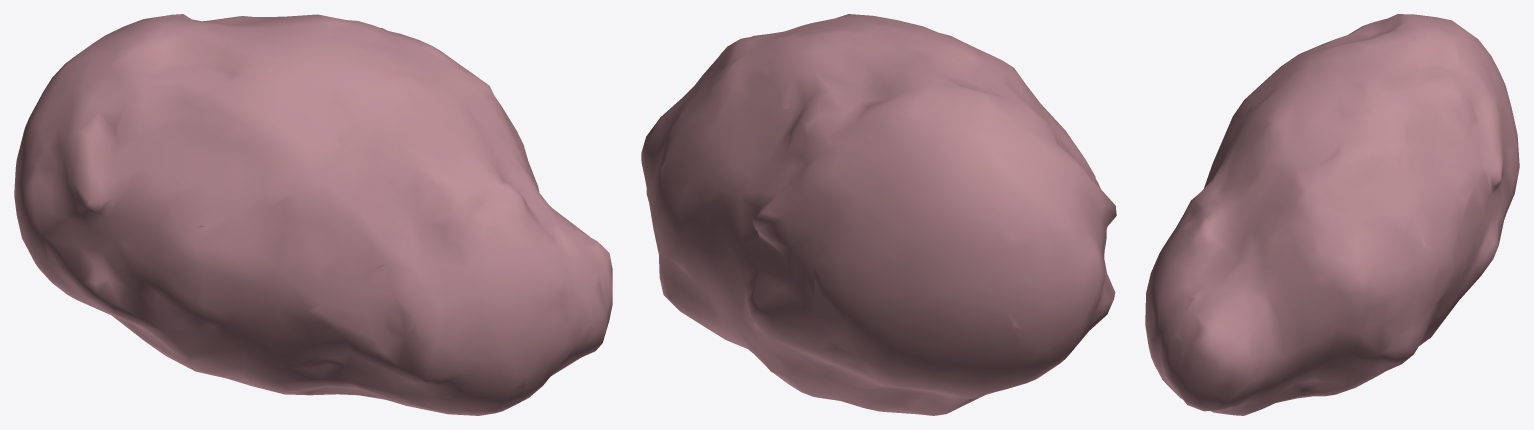
The model's file is plasma.glb.
The picture shows the model from 3 angles, left to right: view 1: azimuth 30°, elevation 25°; view 2: azimuth 150°, elevation 25°; view 3: azimuth 270°, elevation 25°; orthographic projection. The views are drawn at different scales.
Visible parts, largest first — view 1: plasma; view 2: plasma; view 3: plasma.
Part boxes in pixels (<box>): plasma: <box>14,14,612,415</box>; plasma: <box>641,14,1116,415</box>; plasma: <box>1145,14,1519,415</box>.
Bounding box in the file's own units: 3.08 × 2.17 × 2.48.
Materials: 1 (1 with a texture image).
